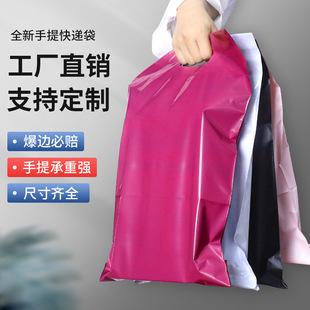塑料袋: (101, 24, 310, 291)
